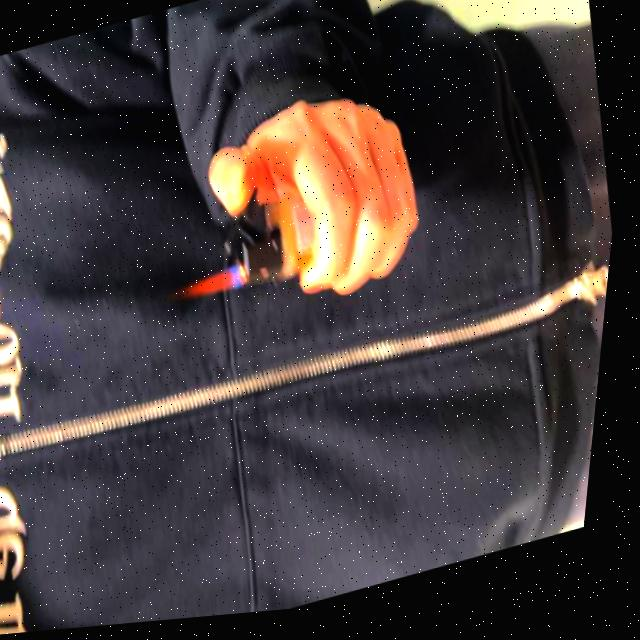Fire: (185, 267, 252, 306)
